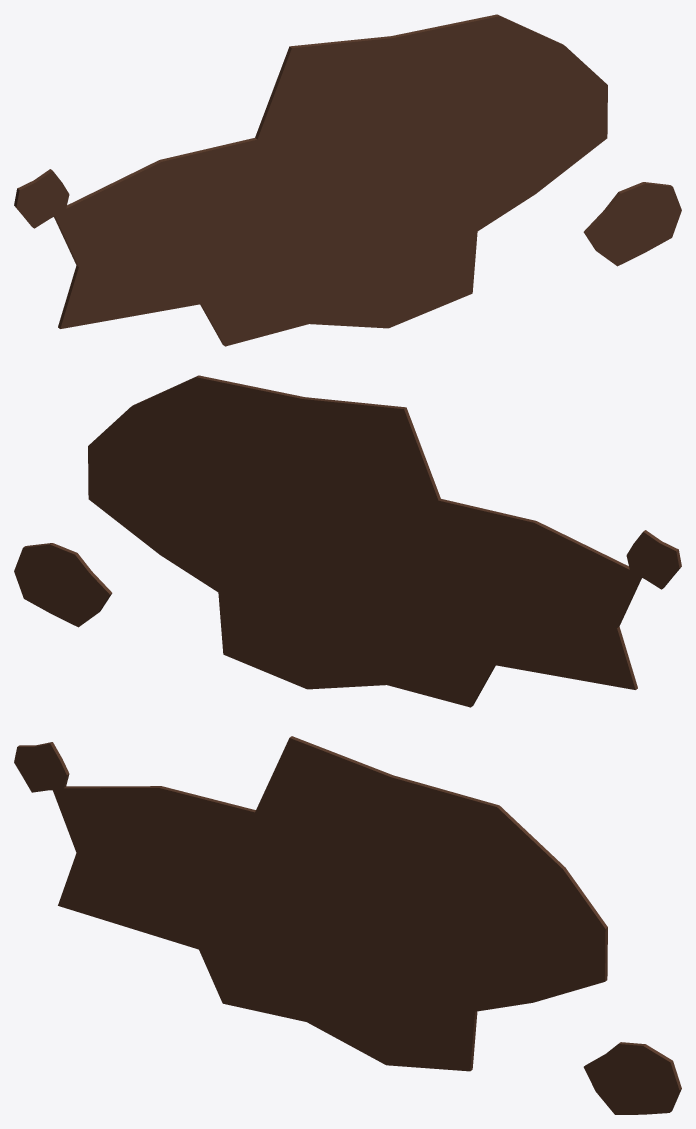
Rendered from RmSpill.fbx.
The picture shows the model from 3 angles, top to bottom: view 1: azimuth 30°, elevation 25°; view 2: azimuth 150°, elevation 25°; view 3: azimuth 330°, elevation 25°; orthographic projection.
Parts seen in each view (by area): view 1: SpillBody; view 2: SpillBody; view 3: SpillBody.
Part boxes in pixels (box(x1,y1,x2,y2)): SpillBody: box(14, 14, 681, 346); SpillBody: box(14, 375, 681, 707); SpillBody: box(14, 736, 681, 1114).
Bounding box in the file's own units: 0.4631 × 0.2021 × 0.003.
